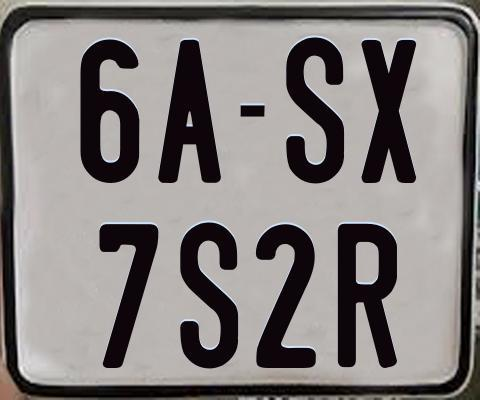2: (256, 224, 318, 374)
6: (77, 39, 139, 184)
7: (99, 224, 163, 372)
A: (158, 38, 223, 187)
R: (338, 223, 398, 373)
S: (178, 221, 240, 371), (283, 35, 344, 185)
X: (360, 38, 415, 184)
